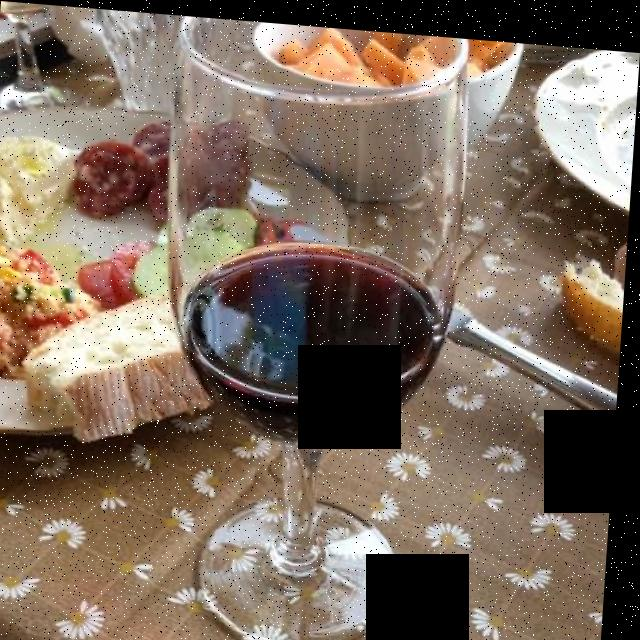wine-red: (189, 238, 457, 453)
